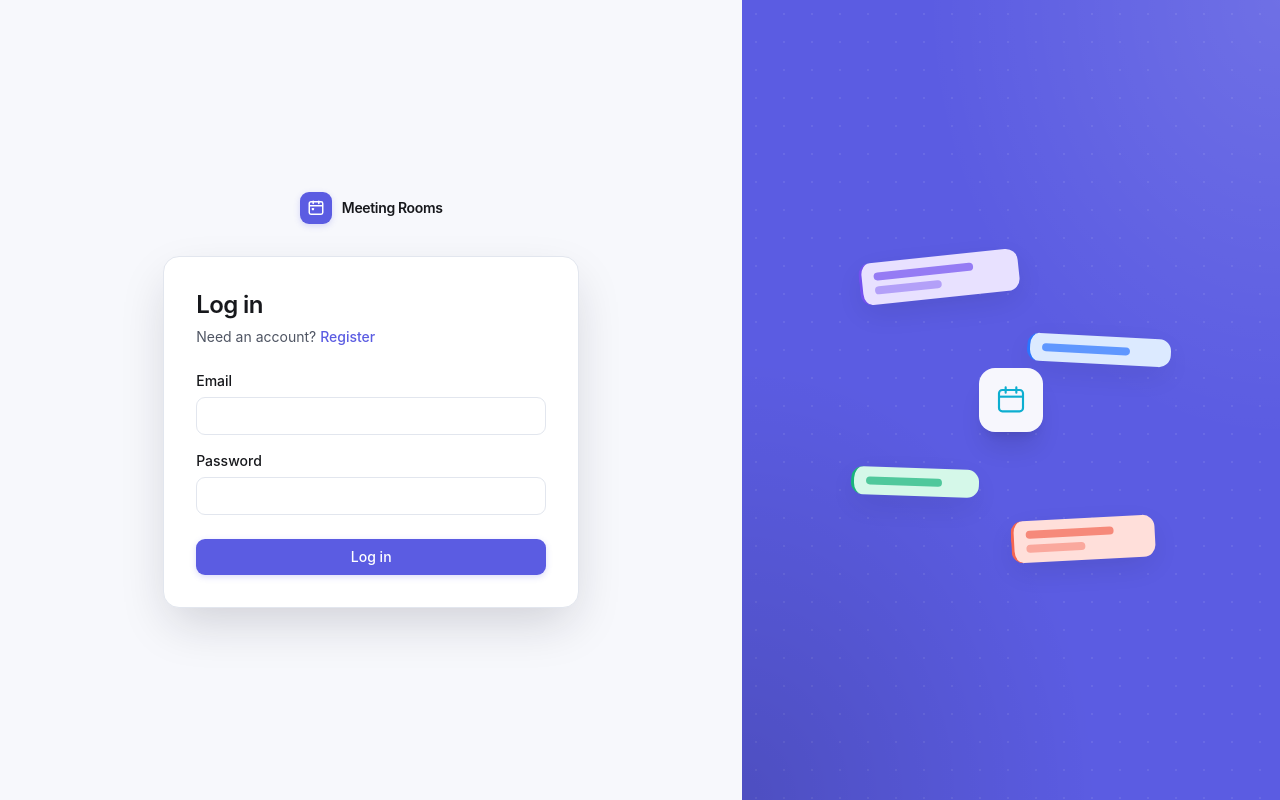
Scenario: LoginPage field validation › shows an invalid-credentials failure as a top-level alert, not a field error (F8)
Step 1. Type "alice@example.com" into the field labelled "Email" → (371, 416), box [196,397,546,435]
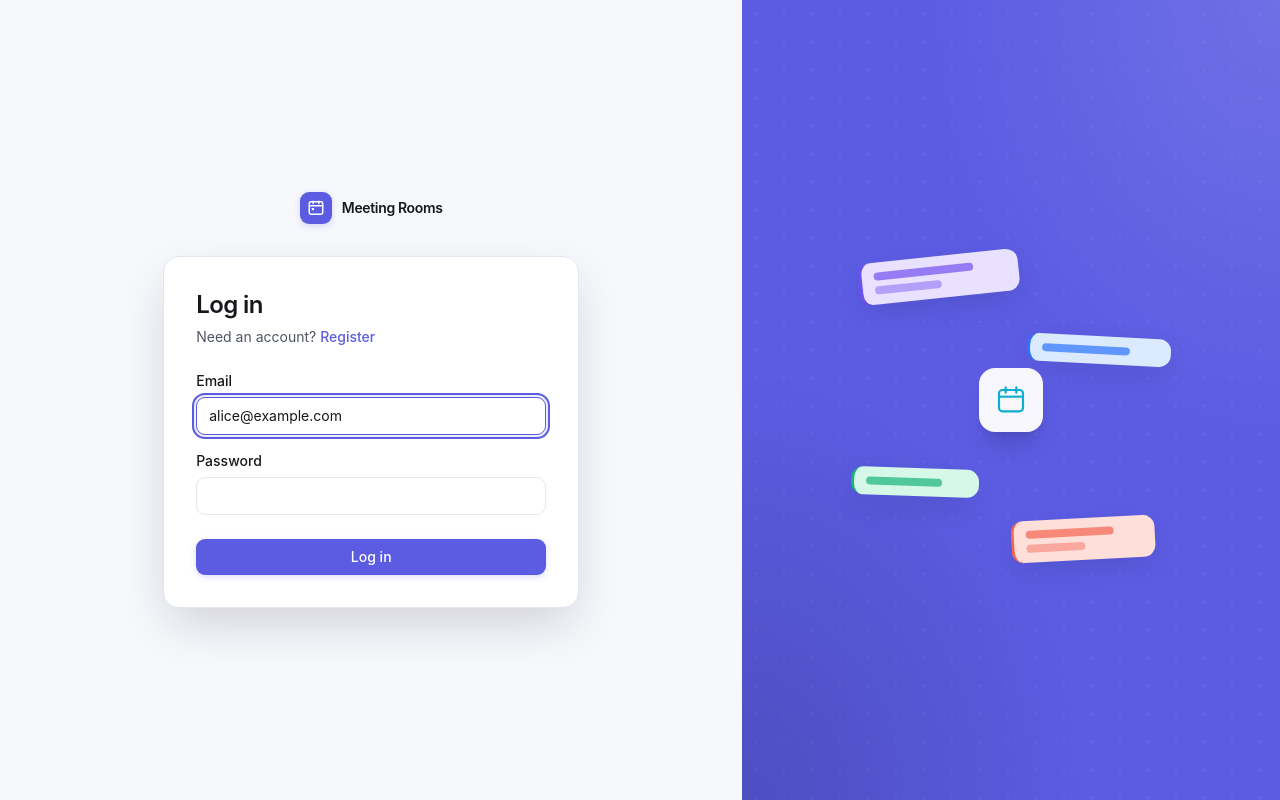
Step 2. Type "wrong-password" into the password field labelled "Password" → (371, 496), box [196,477,546,515]
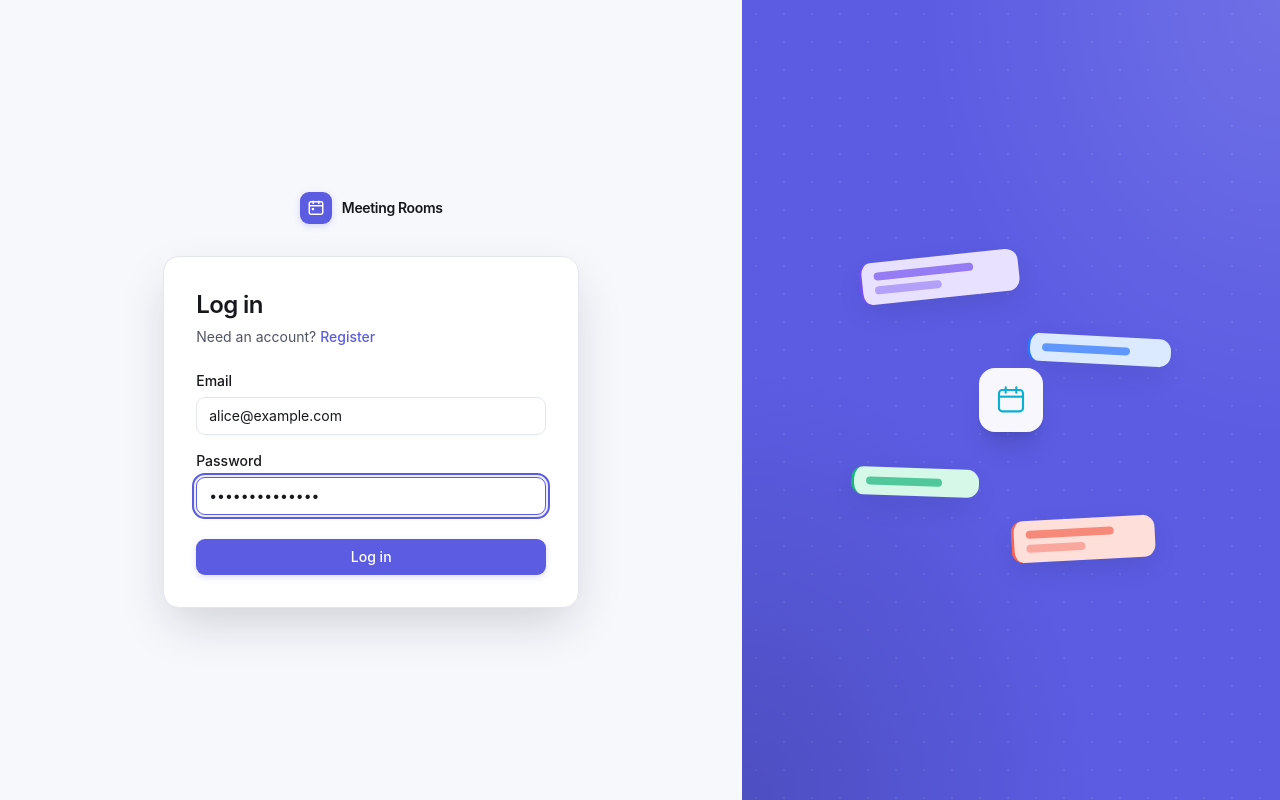
Step 3. Click the button "Log in" → (371, 557), box [196,539,546,575]
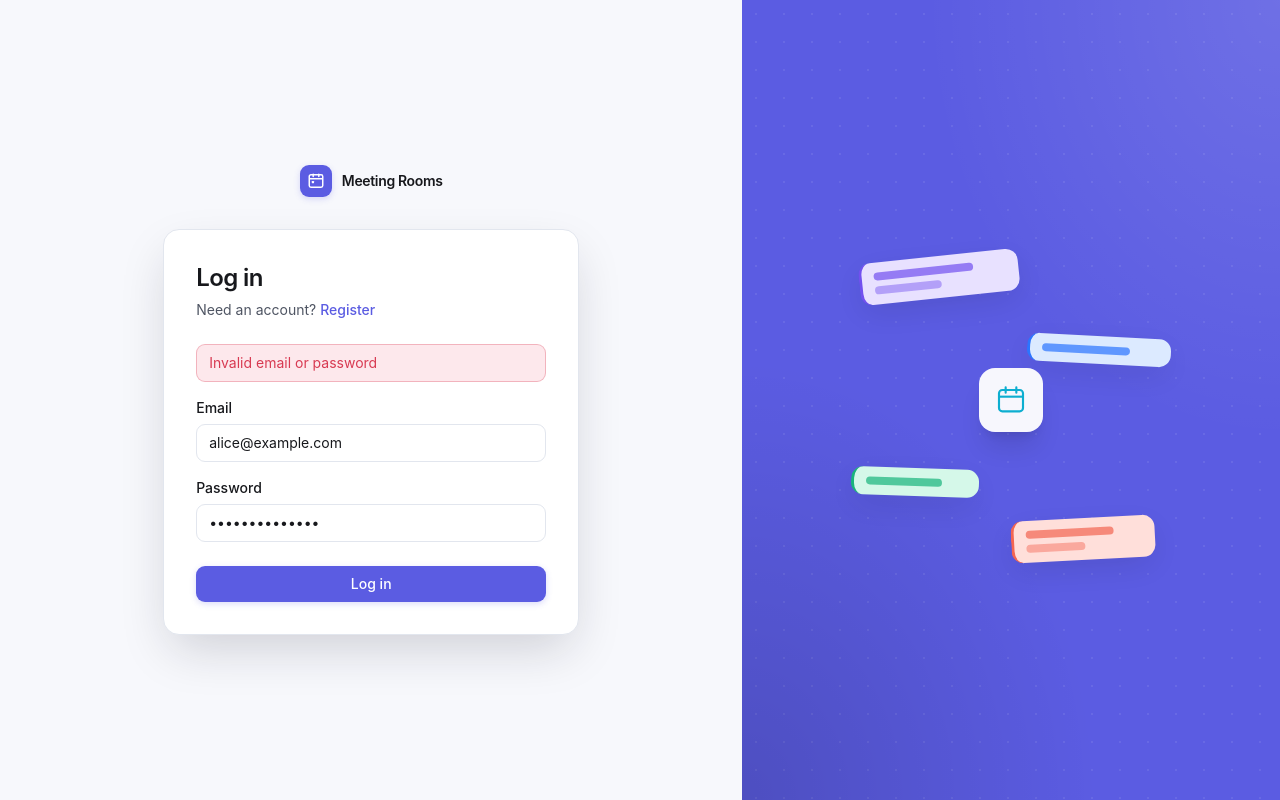
Result: the text "Invalid email or password" is shown at [196,344,546,382]
